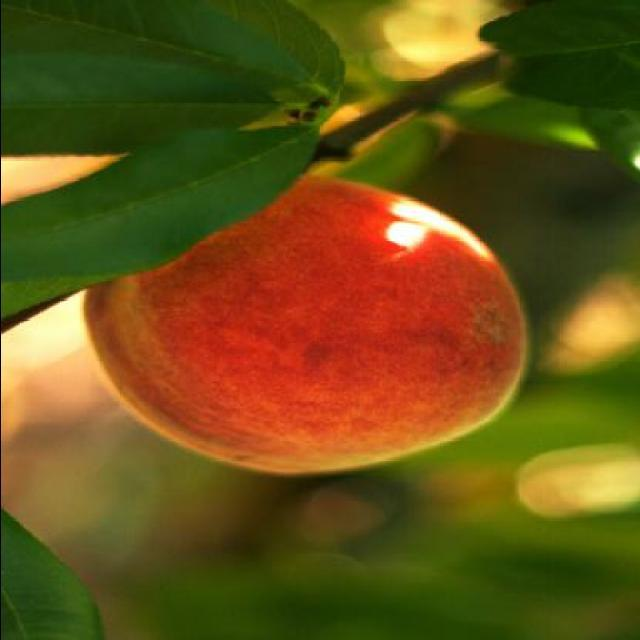Peach: (82, 171, 524, 475)
